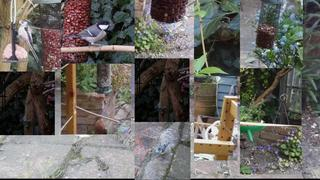blue tit: (156, 142, 170, 161)
great tit: (64, 20, 115, 51)
long tailed tit: (16, 20, 41, 66)
